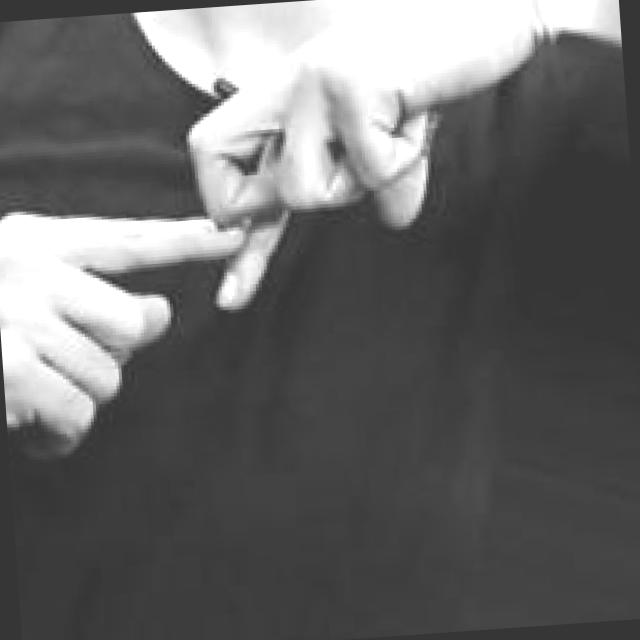R: (0, 0, 565, 447)
